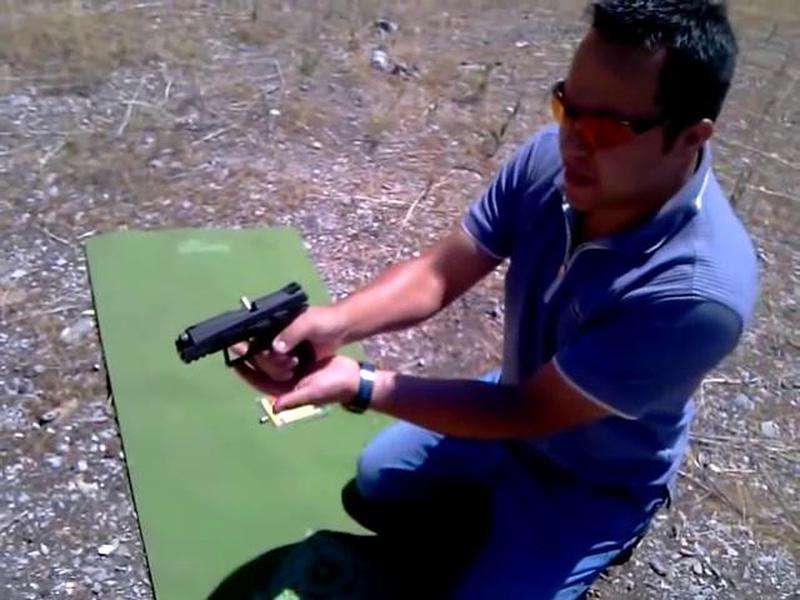Pistola: (174, 278, 351, 406)
